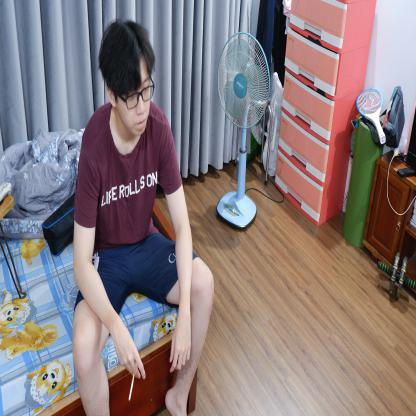cigarette: (127, 373, 136, 403)
person: (70, 14, 215, 415)
